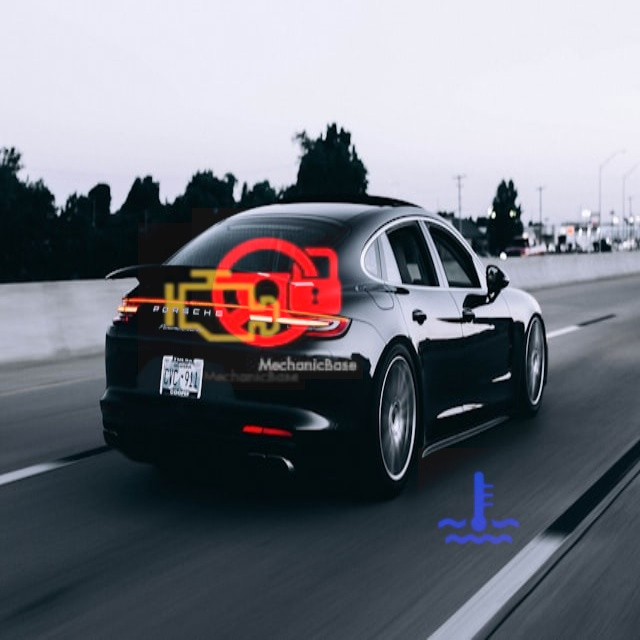symbol: (192, 208, 363, 379), (138, 223, 305, 390), (418, 448, 539, 569)
